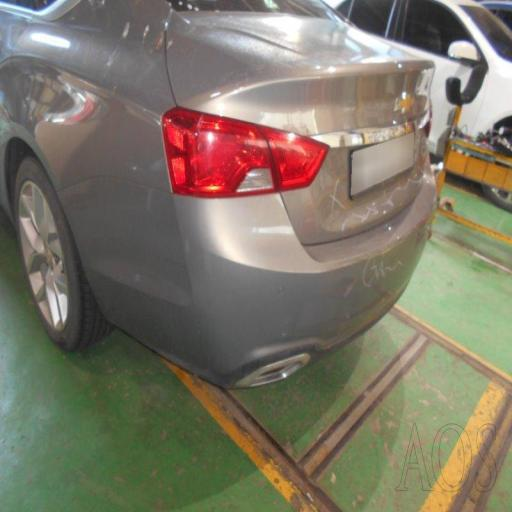dent: (7, 38, 98, 150)
scratch: (302, 63, 446, 299), (83, 15, 197, 85)
